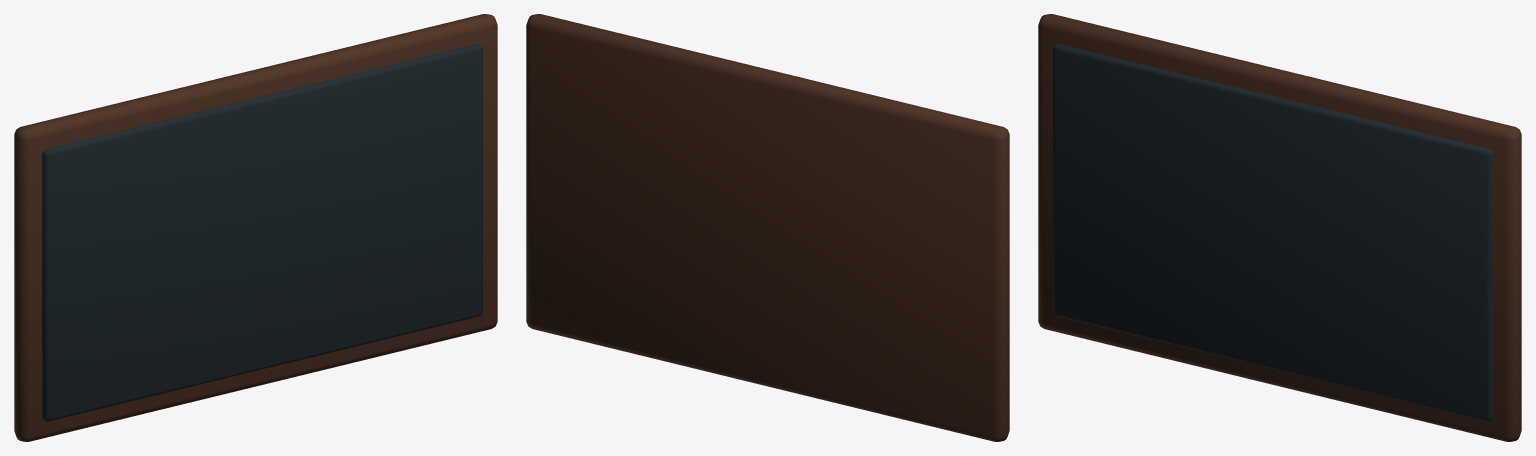
Rendered from f_menu.glb.
3 views of the same model, side by side, from view 1: azimuth 30°, elevation 25°; view 2: azimuth 150°, elevation 25°; view 3: azimuth 330°, elevation 25° (orthographic).
Parts seen in each view (by area): view 1: f_menu; view 2: f_menu; view 3: f_menu.
Part boxes in pixels (x1,y1,x2,y2): f_menu: (14,14,497,441); f_menu: (526,14,1009,441); f_menu: (1038,14,1521,441).
Size of the model in its own units: 2.4 by 1.5 by 0.13.
